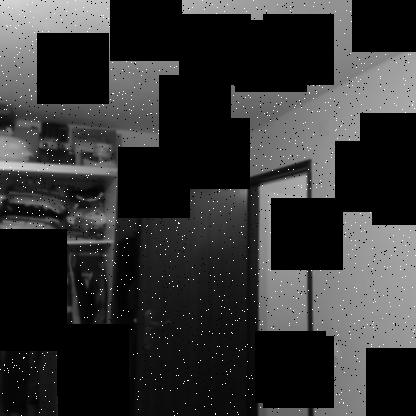Porte: (134, 158, 316, 416)
